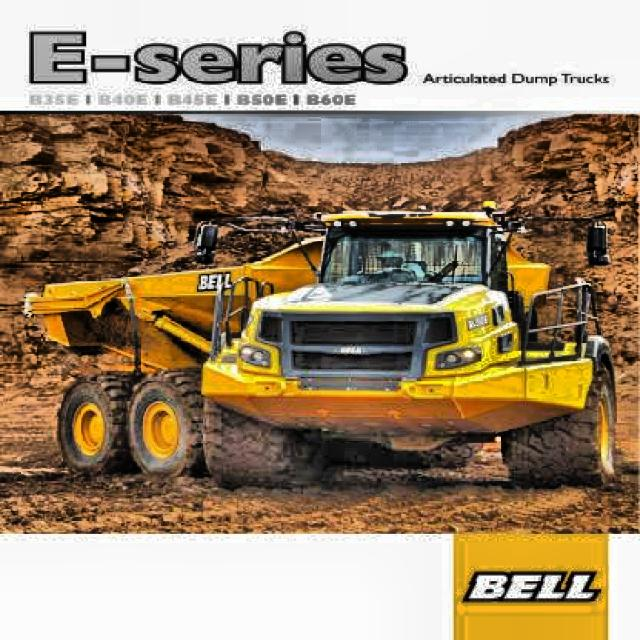dump_truck: (17, 178, 618, 494)
